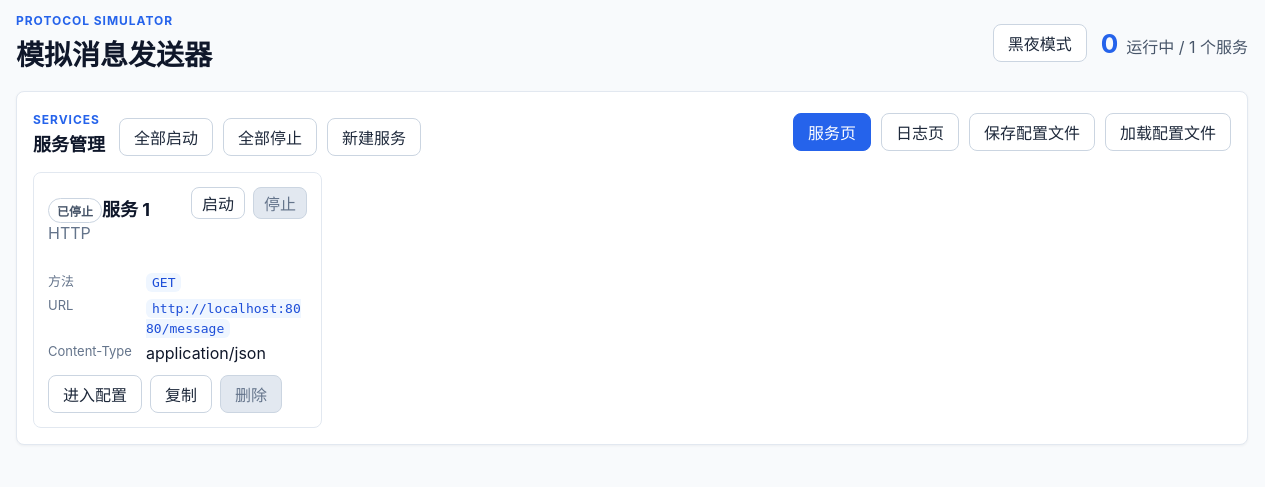
it: runtime controls › deletes a copied service from the service dashboard
Click the button "复制". click: point(181, 394)
box: [150,375,212,413]
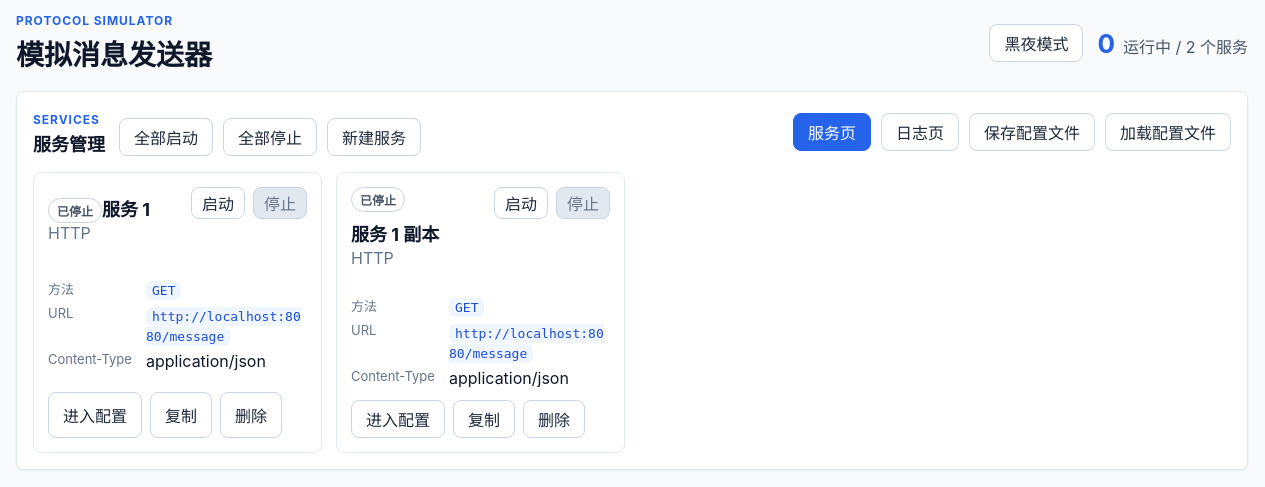
expect the text "服务 1 副本" is shown: met, box [351,220,439,246]
Click the 2nd button "删除". click: point(554, 419)
box: [523,400,585,438]
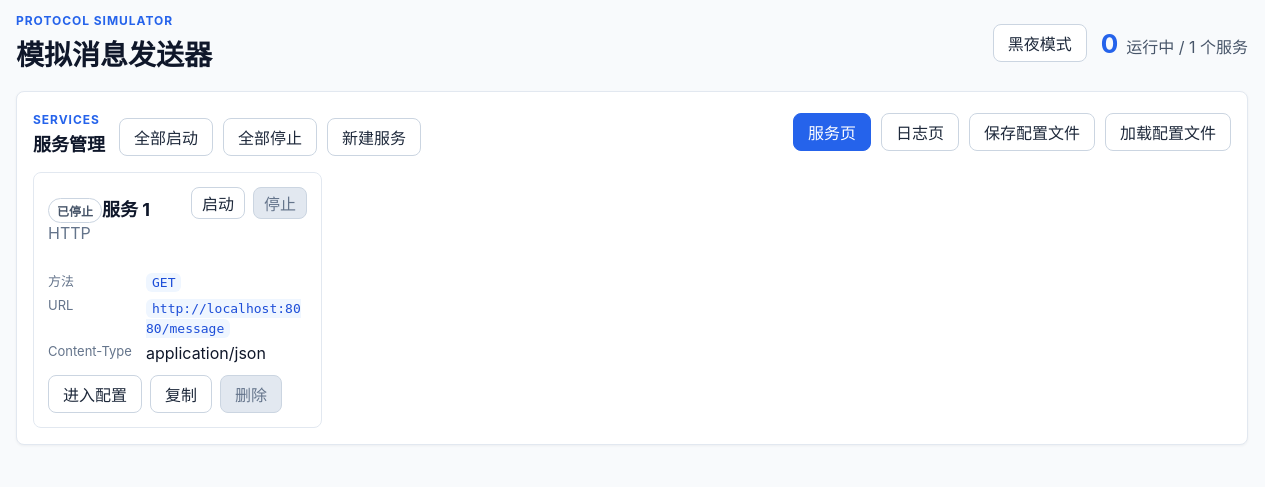
expect the button "服务 1 副本" is gone: met
